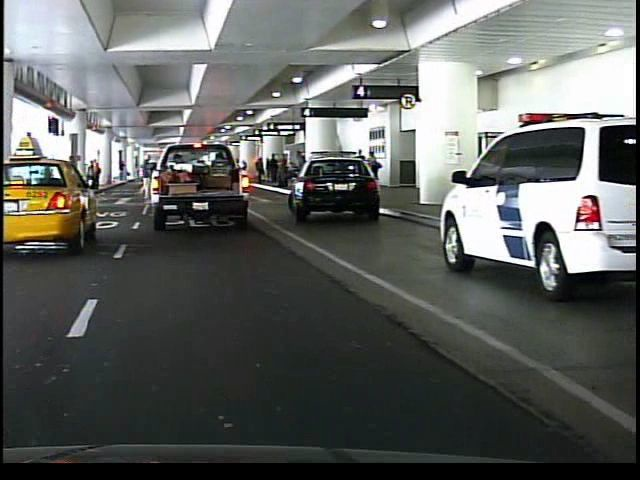person: (131, 151, 150, 202)
